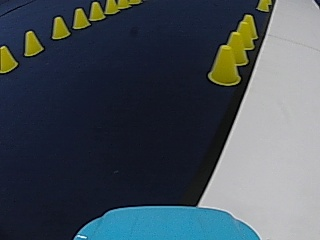cone: (207, 43, 240, 85), (224, 31, 248, 66), (236, 14, 257, 46), (23, 30, 43, 55), (0, 45, 17, 72), (50, 15, 69, 39), (236, 26, 254, 49), (72, 7, 90, 29), (88, 1, 105, 20), (104, 0, 118, 14), (256, 0, 269, 11), (118, 0, 128, 9)
